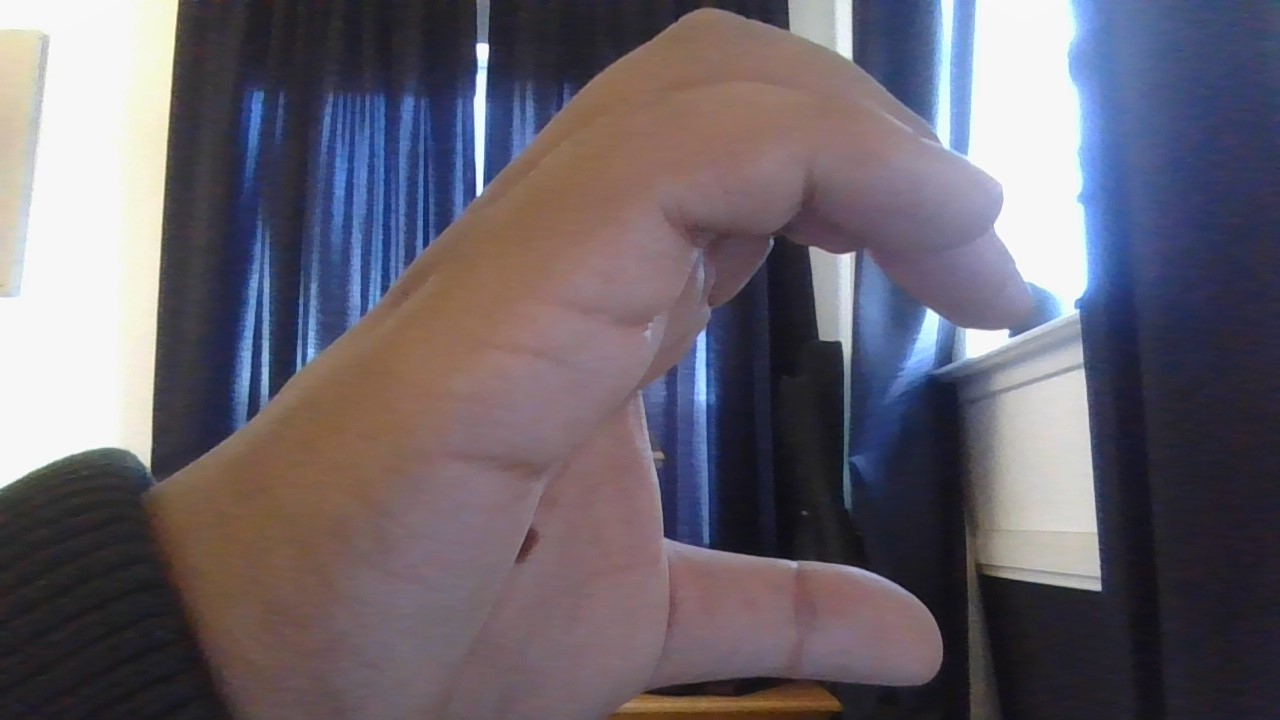c: (89, 10, 1103, 720)
